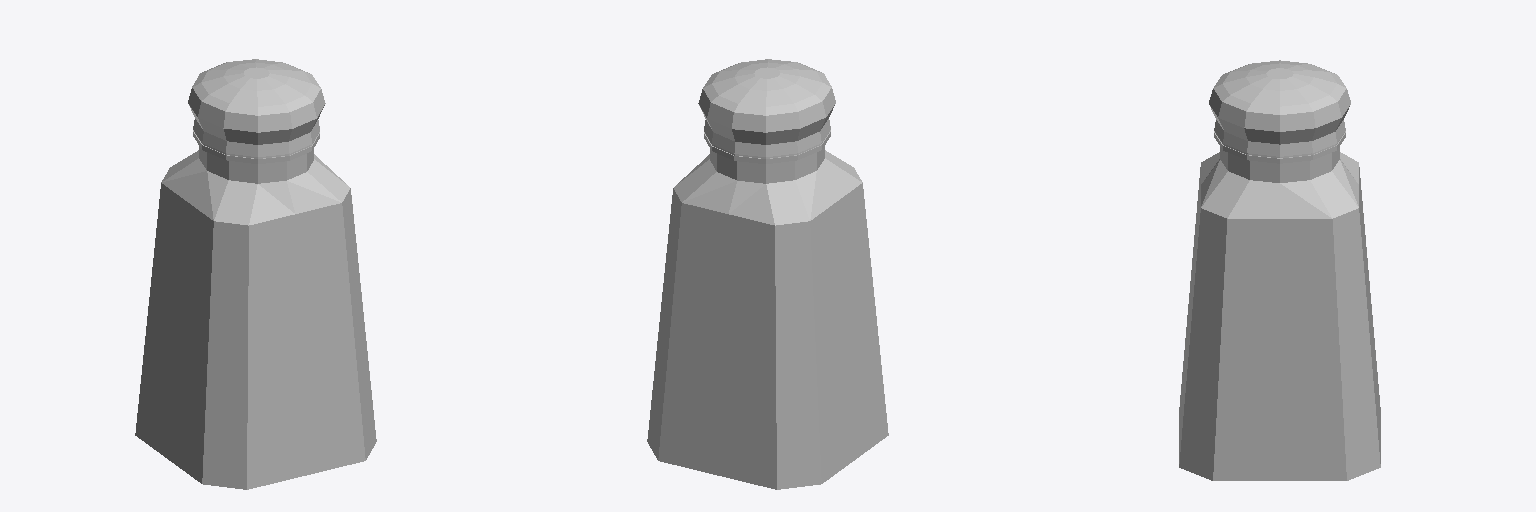
File: Salero.obj
The picture shows the model from 3 angles: view 1: azimuth 30°, elevation 25°; view 2: azimuth 150°, elevation 25°; view 3: azimuth 270°, elevation 25°; orthographic projection.
Visible parts, largest first — view 1: Salt_Shaker_PIVOT Kitchen_Props Cocina; view 2: Salt_Shaker_PIVOT Kitchen_Props Cocina; view 3: Salt_Shaker_PIVOT Kitchen_Props Cocina.
Boxes of the visible parts, <box> form: Salt_Shaker_PIVOT Kitchen_Props Cocina: <box>135,59,376,489</box>; Salt_Shaker_PIVOT Kitchen_Props Cocina: <box>647,59,888,489</box>; Salt_Shaker_PIVOT Kitchen_Props Cocina: <box>1179,60,1380,480</box>.
Bounding box in the file's own units: 3.94 × 7.88 × 3.94.